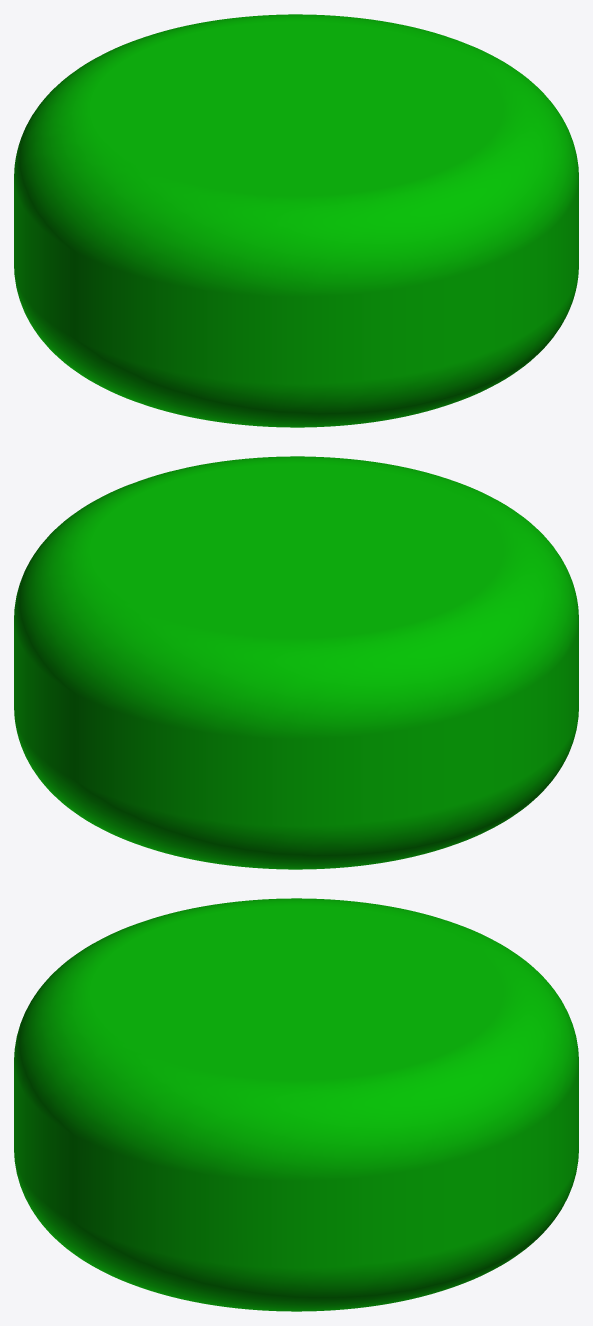
File: OUTFITTING_INTERIOR__EXT. INSTRUMENTS__AFT STBD MAST__Simrad HALO20+ Radar.glb
3 renders of one model, top to bottom at view 1: azimuth 30°, elevation 25°; view 2: azimuth 150°, elevation 25°; view 3: azimuth 270°, elevation 25°, orthographic.
Size of the model in its own units: 0.51 by 0.2235 by 0.5099.
